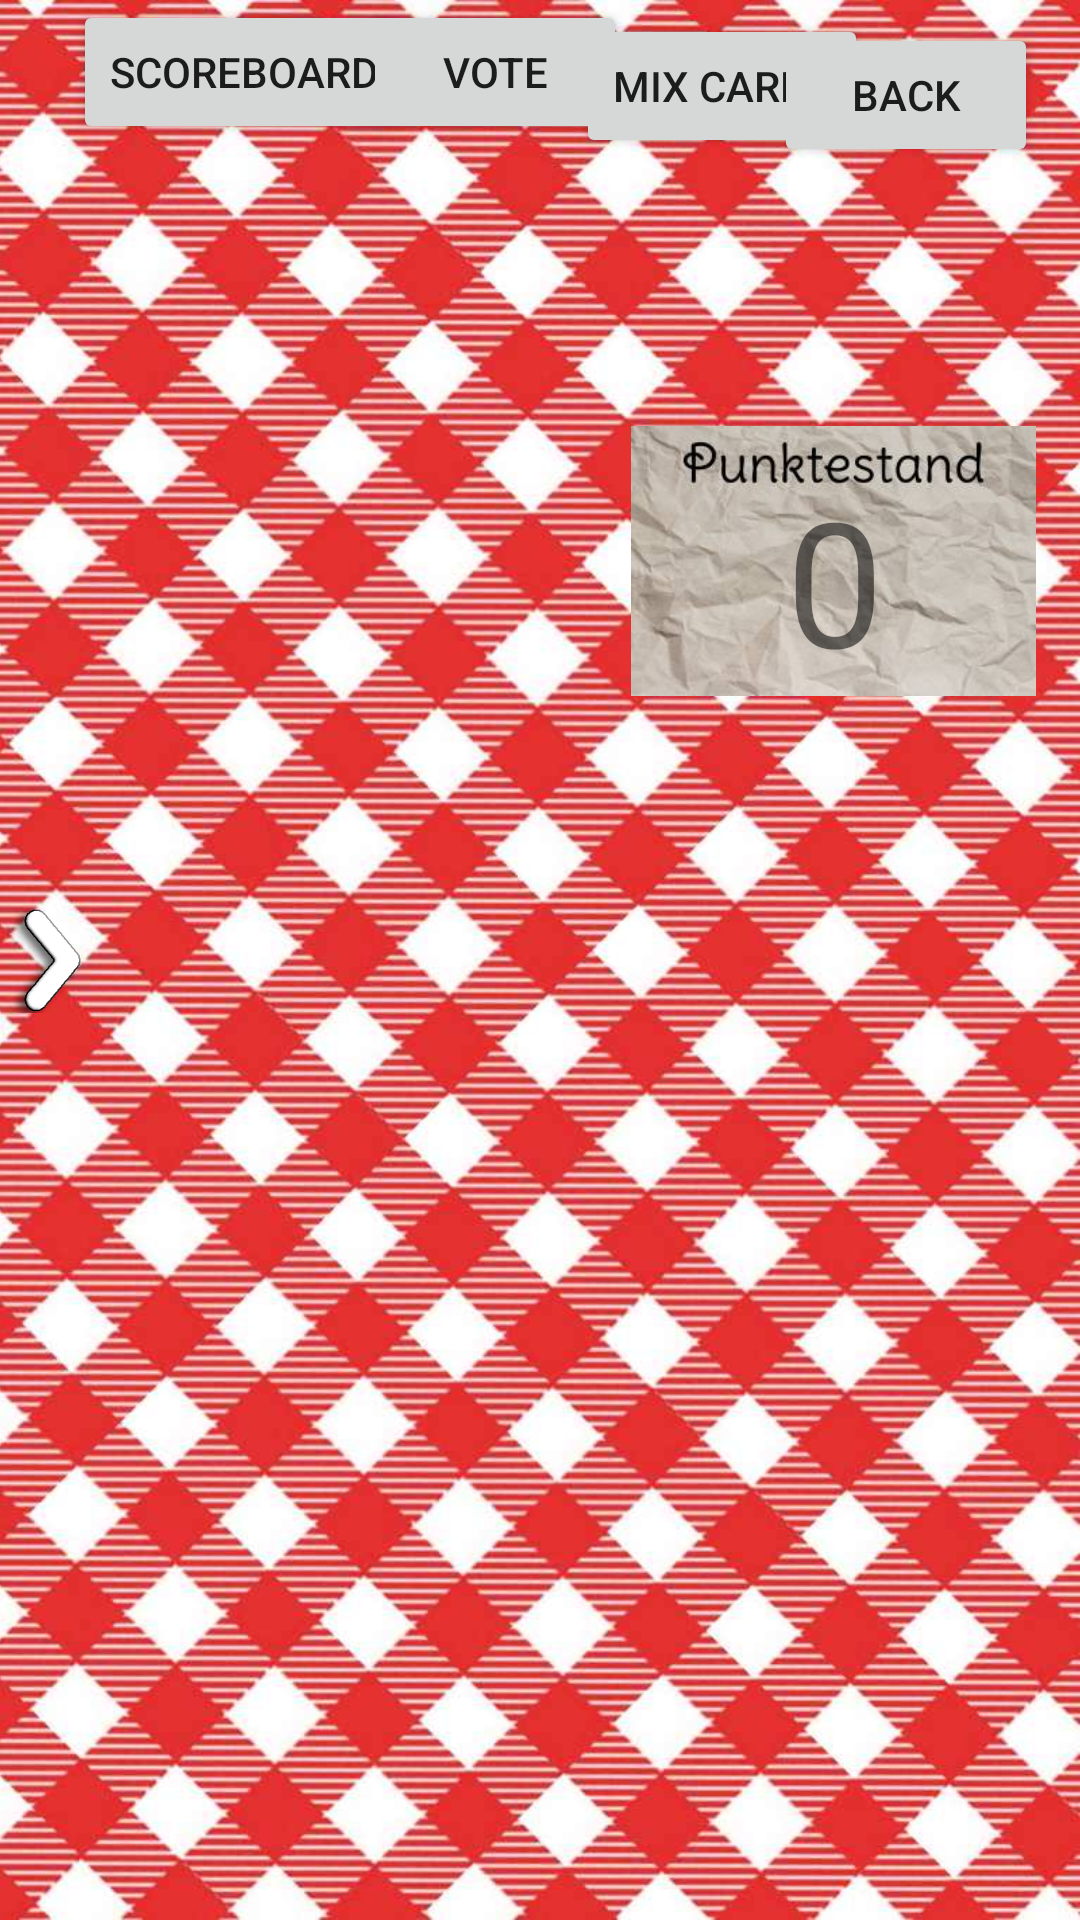

Screen size 1080px x 1920px. Icon name, then its center in pixels as (x,y):
arrow: (52,960)
